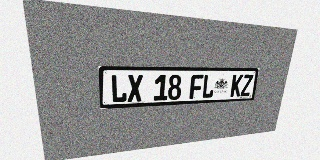1: (154, 75, 169, 101)
8: (168, 75, 182, 100)
F: (189, 74, 204, 99)
K: (230, 74, 243, 97)
L: (111, 75, 127, 103), (201, 74, 215, 98)
X: (127, 75, 143, 102)
Z: (240, 74, 253, 96)
